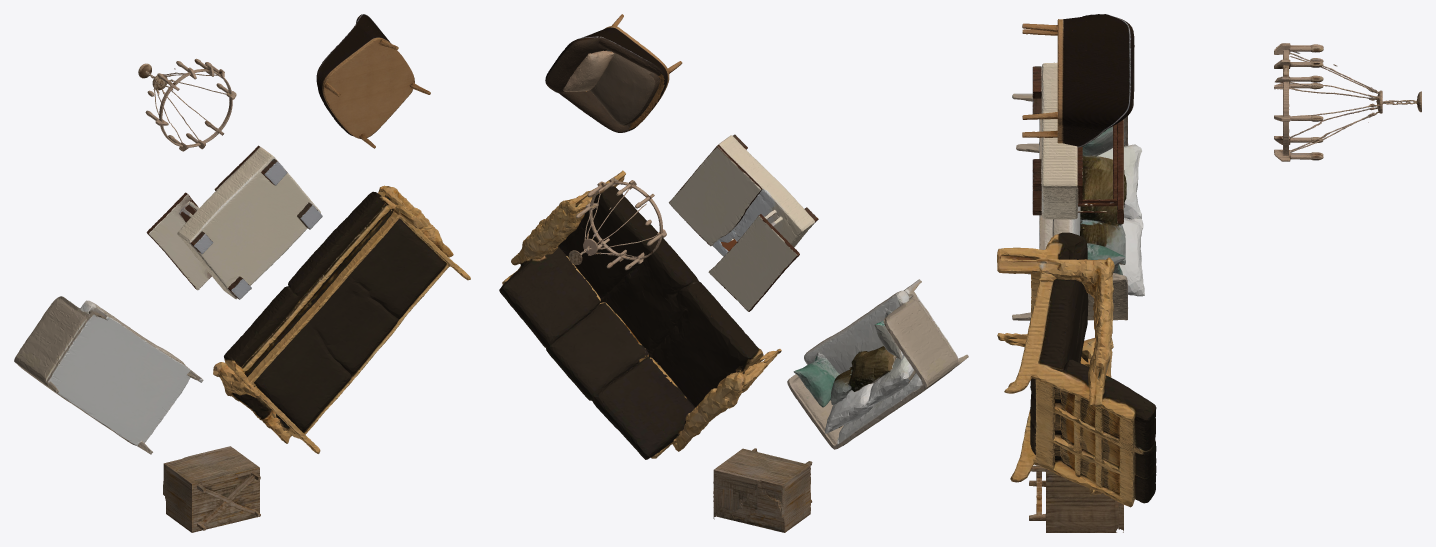
3 views of the same model, side by side, from view 1: azimuth 30°, elevation 25°; view 2: azimuth 150°, elevation 25°; view 3: azimuth 270°, elevation 25° (orthographic). The views are drawn at different scales.
Parts seen in each view (by area): view 1: scene_0000050_object_4_textured_scene_0000050_object_4_textu, scene_0000050_object_1_textured_scene_0000050_object_1_textu, scene_0000050_object_0_textured_scene_0000050_object_0_textu, scene_0000050_object_3_textured_scene_0000050_object_3_textu, scene_0000050_object_5_textured_scene_0000050_object_5_textu, scene_0000050_object_2_textured_scene_0000050_object_2_textu; view 2: scene_0000050_object_4_textured_scene_0000050_object_4_textu, scene_0000050_object_1_textured_scene_0000050_object_1_textu, scene_0000050_object_0_textured_scene_0000050_object_0_textu, scene_0000050_object_3_textured_scene_0000050_object_3_textu, scene_0000050_object_5_textured_scene_0000050_object_5_textu, scene_0000050_object_2_textured_scene_0000050_object_2_textu; view 3: scene_0000050_object_4_textured_scene_0000050_object_4_textu, scene_0000050_object_3_textured_scene_0000050_object_3_textu, scene_0000050_object_1_textured_scene_0000050_object_1_textu, scene_0000050_object_0_textured_scene_0000050_object_0_textu, scene_0000050_object_2_textured_scene_0000050_object_2_textu, scene_0000050_object_5_textured_scene_0000050_object_5_textu.
Part boxes in pixels (<box>): scene_0000050_object_4_textured_scene_0000050_object_4_textu: <box>213,185,470,453</box>; scene_0000050_object_1_textured_scene_0000050_object_1_textu: <box>14,296,203,454</box>; scene_0000050_object_0_textured_scene_0000050_object_0_textu: <box>146,145,322,299</box>; scene_0000050_object_3_textured_scene_0000050_object_3_textu: <box>316,14,430,148</box>; scene_0000050_object_5_textured_scene_0000050_object_5_textu: <box>163,446,260,532</box>; scene_0000050_object_2_textured_scene_0000050_object_2_textu: <box>138,58,236,151</box>; scene_0000050_object_4_textured_scene_0000050_object_4_textu: <box>499,170,781,459</box>; scene_0000050_object_1_textured_scene_0000050_object_1_textu: <box>787,279,968,449</box>; scene_0000050_object_0_textured_scene_0000050_object_0_textu: <box>669,134,818,311</box>; scene_0000050_object_3_textured_scene_0000050_object_3_textu: <box>545,14,682,132</box>; scene_0000050_object_5_textured_scene_0000050_object_5_textu: <box>713,448,812,532</box>; scene_0000050_object_2_textured_scene_0000050_object_2_textu: <box>568,177,666,270</box>; scene_0000050_object_4_textured_scene_0000050_object_4_textu: <box>997,232,1156,507</box>; scene_0000050_object_3_textured_scene_0000050_object_3_textu: <box>1022,14,1134,147</box>; scene_0000050_object_1_textured_scene_0000050_object_1_textu: <box>1012,93,1144,320</box>; scene_0000050_object_0_textured_scene_0000050_object_0_textu: <box>1032,62,1123,223</box>; scene_0000050_object_2_textured_scene_0000050_object_2_textu: <box>1274,43,1421,161</box>; scene_0000050_object_5_textured_scene_0000050_object_5_textu: <box>1029,465,1123,532</box>.
Size of the model in its own units: 3.81 by 3.85 by 2.47.
Materials: 6 (6 with a texture image).
